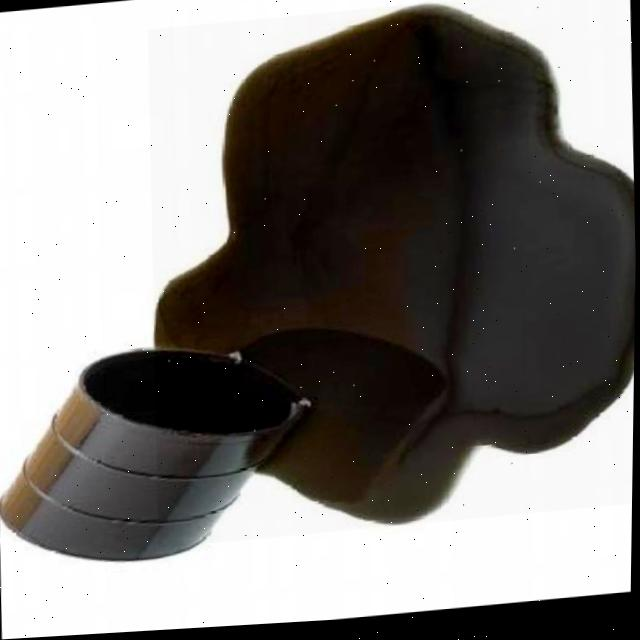spillage: (155, 7, 636, 528)
